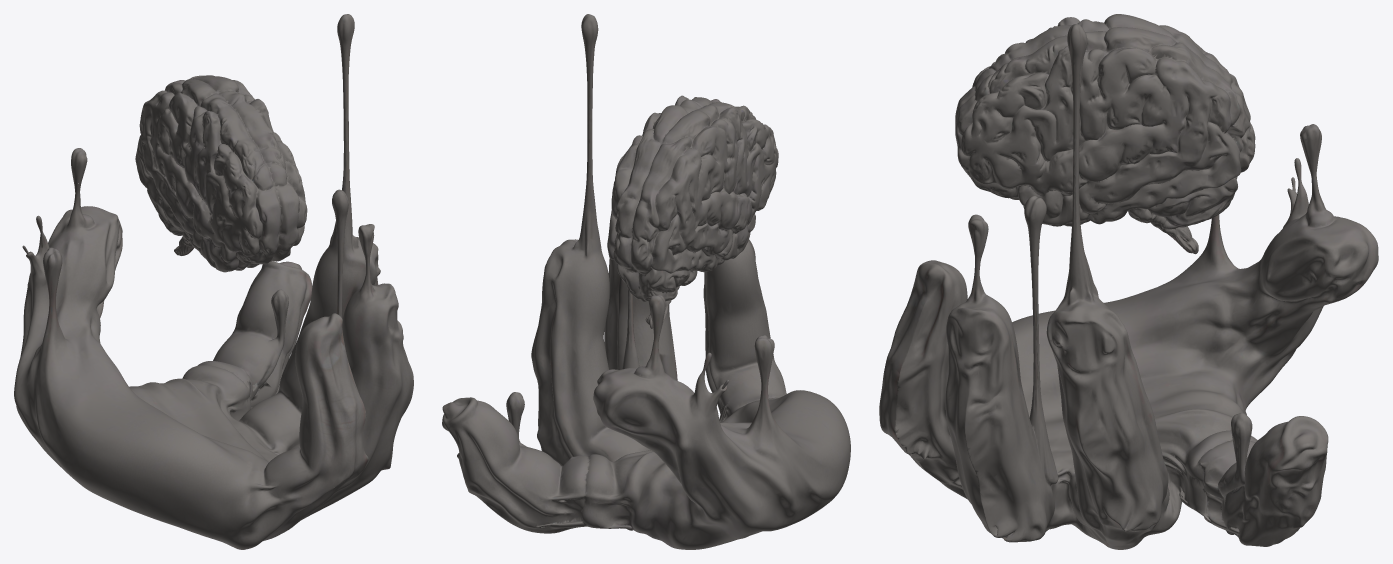
File: hero3Dmodel-opt.glb
3 views of the same model, side by side, from view 1: azimuth 30°, elevation 25°; view 2: azimuth 150°, elevation 25°; view 3: azimuth 270°, elevation 25° (orthographic). The views are drawn at different scales.
Visible parts, largest first — view 1: tripo_node_b11ae0ed-165c-4312-9062-5eb675896b3d; view 2: tripo_node_b11ae0ed-165c-4312-9062-5eb675896b3d; view 3: tripo_node_b11ae0ed-165c-4312-9062-5eb675896b3d.
Part boxes in pixels (bbox=[...]): tripo_node_b11ae0ed-165c-4312-9062-5eb675896b3d: bbox=[14, 14, 413, 549]; tripo_node_b11ae0ed-165c-4312-9062-5eb675896b3d: bbox=[442, 14, 850, 549]; tripo_node_b11ae0ed-165c-4312-9062-5eb675896b3d: bbox=[879, 14, 1378, 549].
Size of the model in its own units: 0.675 by 0.9793 by 0.7749.
1 material, 1 textured.
